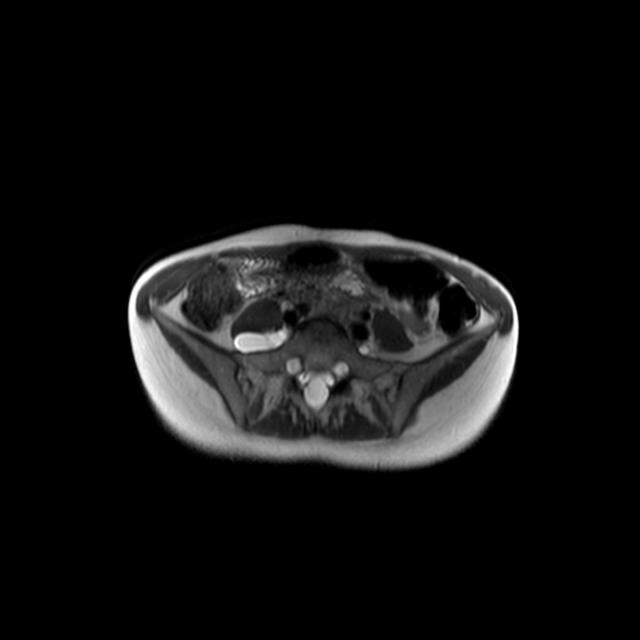sol: (400, 306, 431, 336)
